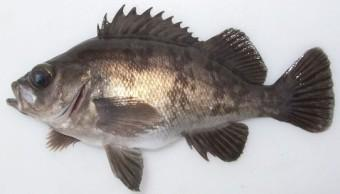fish: (7, 5, 333, 190)
